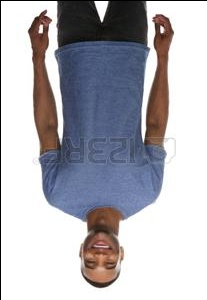arm: (28, 49, 56, 200), (148, 56, 168, 199)
chest: (58, 48, 145, 206)
face: (80, 230, 121, 288)
hand: (150, 11, 176, 55), (27, 9, 52, 47)
leg: (103, 1, 148, 49), (58, 2, 101, 48)
neck: (85, 208, 119, 229)
